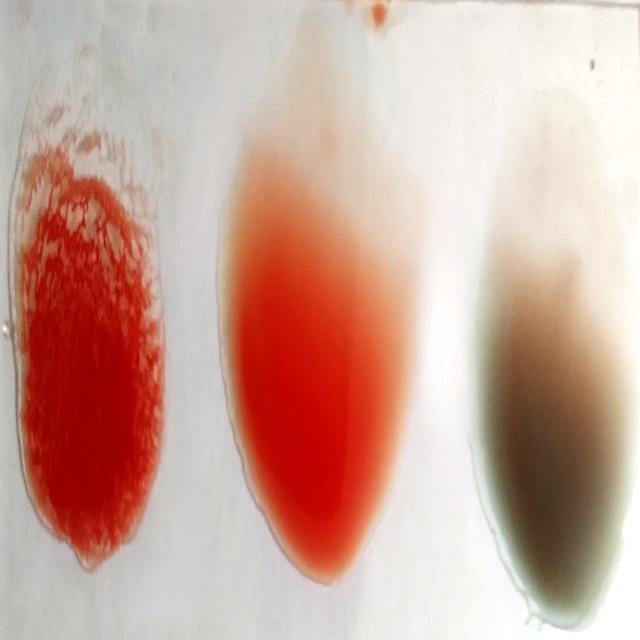D: (9, 65, 167, 581)
